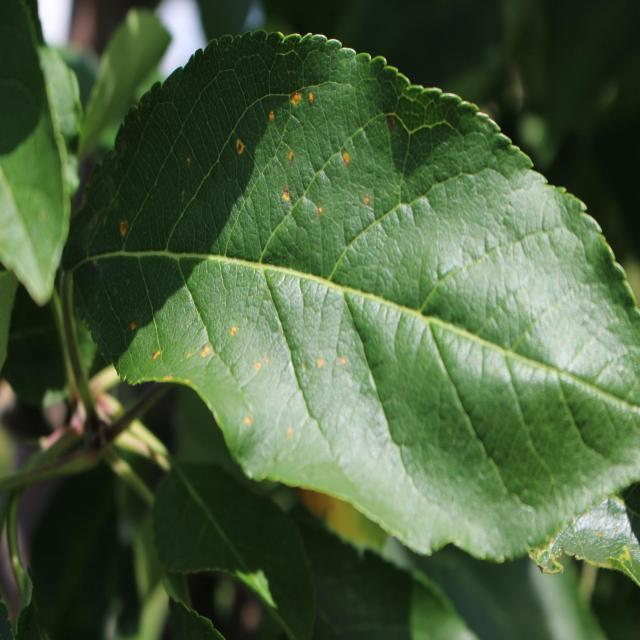Rust: (279, 400, 298, 457), (161, 371, 188, 406), (254, 96, 283, 128), (227, 310, 251, 348), (237, 407, 262, 443), (246, 351, 278, 378), (116, 204, 136, 246), (308, 192, 331, 228), (304, 84, 326, 119), (232, 128, 248, 170), (192, 332, 214, 362), (276, 186, 296, 218), (314, 352, 334, 384), (334, 348, 356, 374), (361, 186, 377, 221), (121, 317, 142, 342), (338, 142, 354, 173), (288, 83, 303, 115), (148, 343, 167, 360)
